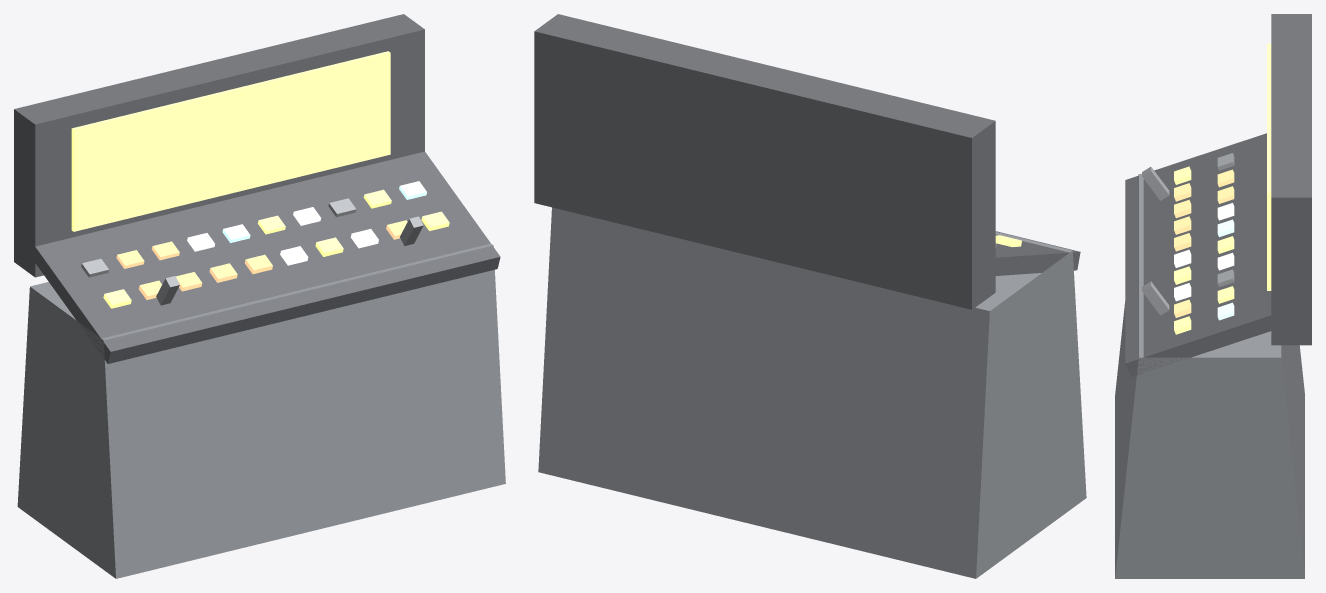
The model's file is SM_Eng_Control_Panel.fbx.
The picture shows the model from 3 angles, left to right: view 1: azimuth 30°, elevation 25°; view 2: azimuth 150°, elevation 25°; view 3: azimuth 270°, elevation 25°; orthographic projection. The views are drawn at different scales.
Visible parts, largest first — view 1: SM_Eng_Control_Panel; view 2: SM_Eng_Control_Panel; view 3: SM_Eng_Control_Panel.
Part boxes in pixels (x1=…): SM_Eng_Control_Panel: x1=14, y1=14, x2=505, y2=578; SM_Eng_Control_Panel: x1=534, y1=14, x2=1086, y2=578; SM_Eng_Control_Panel: x1=1115, y1=14, x2=1311, y2=578.
Bounding box in the file's own units: 1.6 × 1.55 × 0.725.
